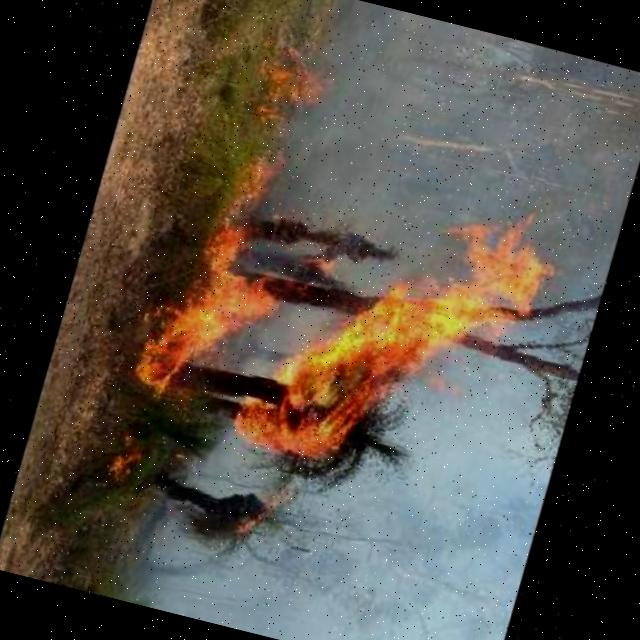fire: (117, 126, 571, 502)
